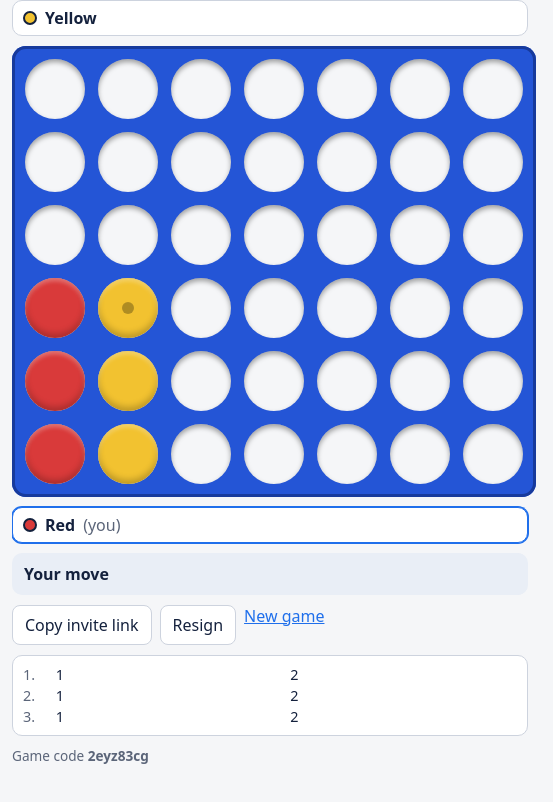
online Connect Four › finishes a game with a winning drop
expect the text "Your move" is shown: met, box 12,553 -> 528,595
Click the button named "Column 1, 3 free" at (55, 271), box 18,52 -> 91,491
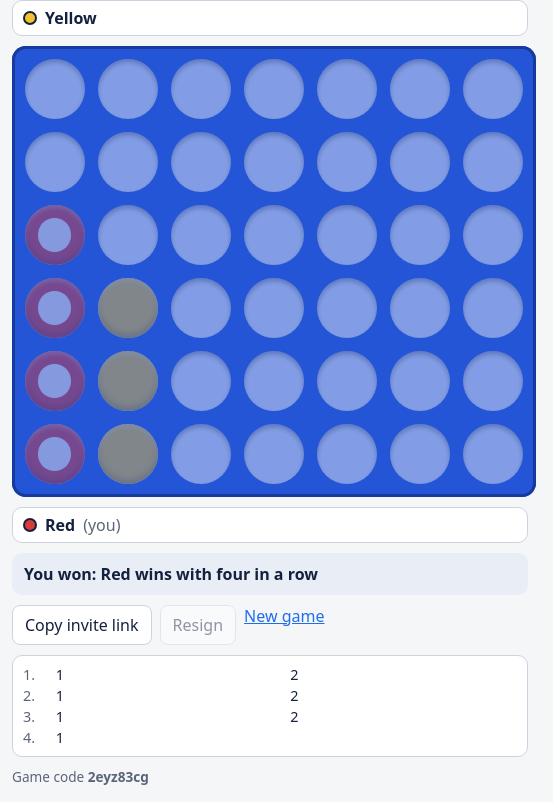
expect the text "You won: Red wins with four in a row" is shown: met, box 12,553 -> 528,595
